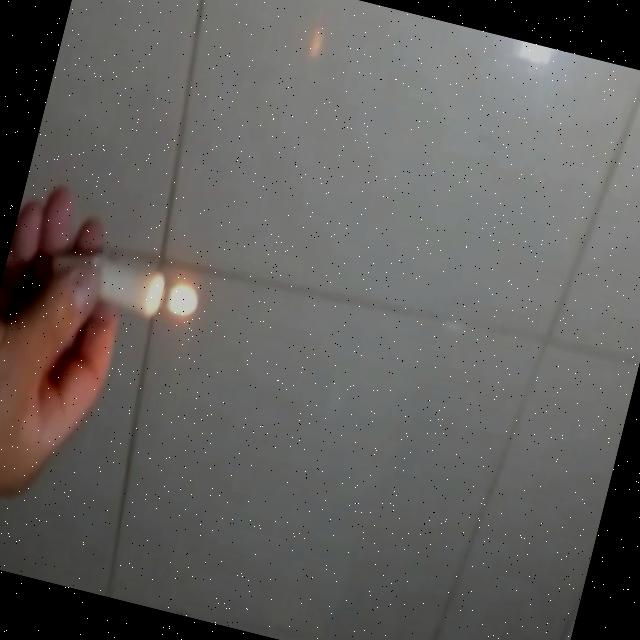fire: (160, 275, 203, 325)
